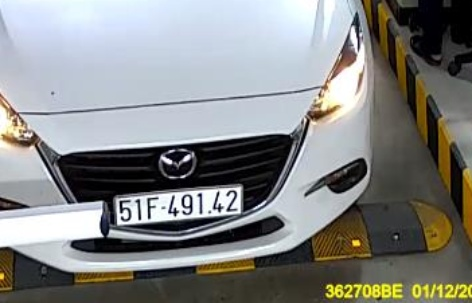plate: (110, 180, 246, 226)
